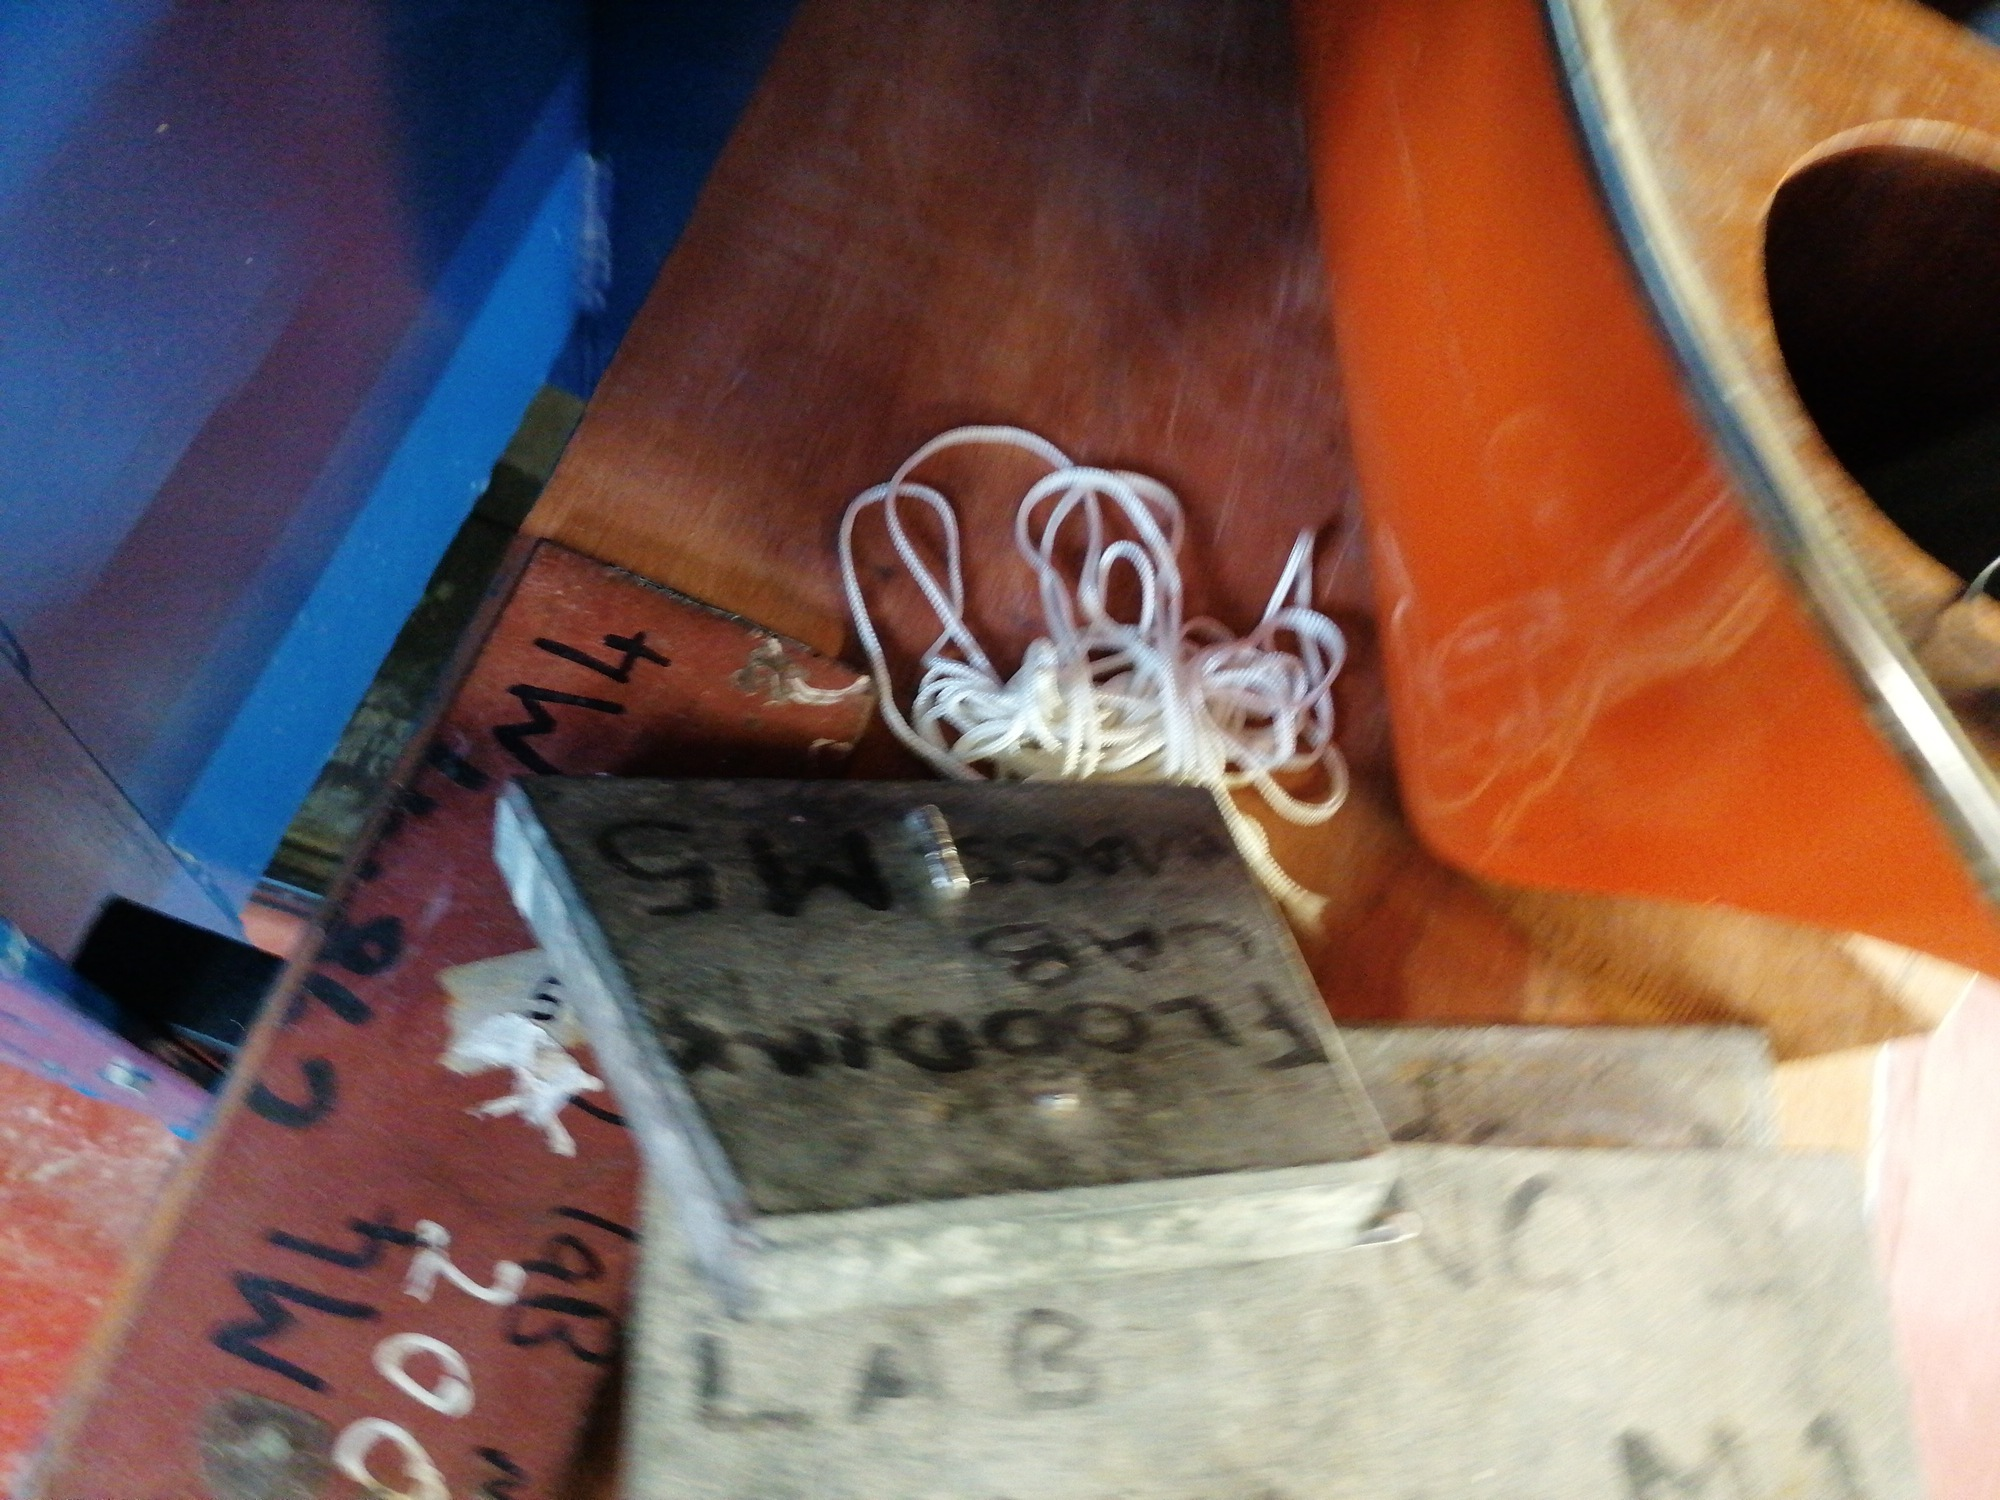lead-block: (487, 770, 1405, 1331)
